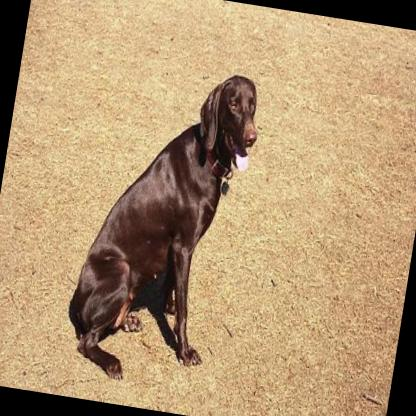vizsla: (58, 52, 268, 394)
